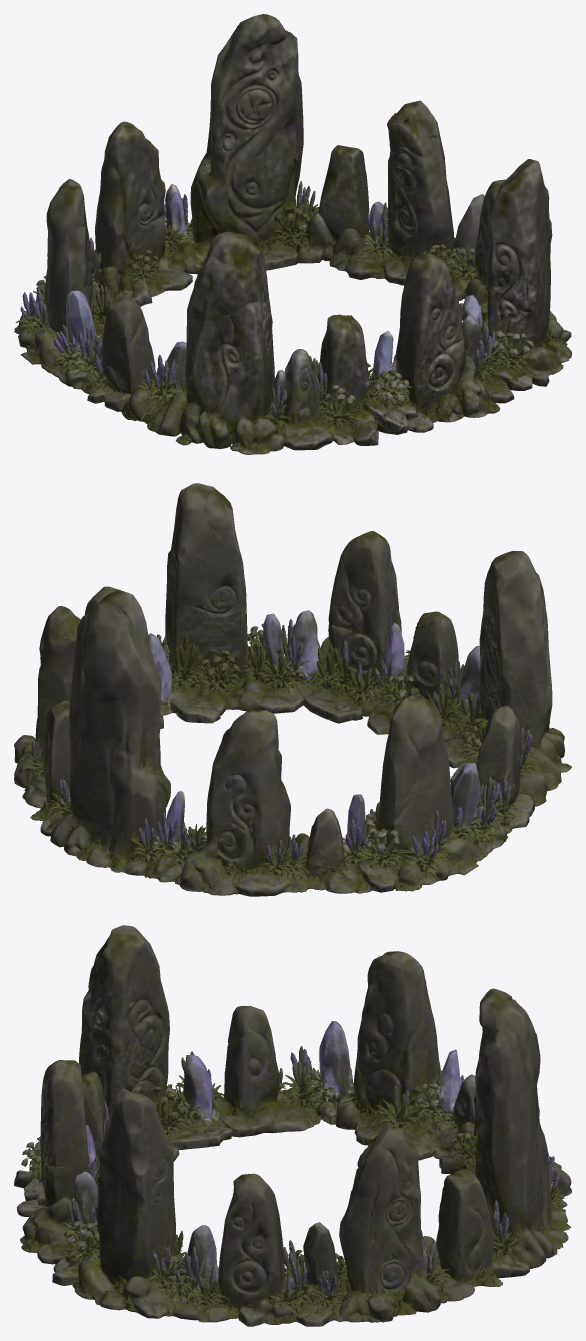
Rendered from Meshy_AI_fantasy_stone_circle_0823035110_image-to-3d-texture.glb.
3 renders of one model, top to bottom at view 1: azimuth 30°, elevation 25°; view 2: azimuth 150°, elevation 25°; view 3: azimuth 270°, elevation 25°, orthographic. The views are drawn at different scales.
Parts seen in each view (by area): view 1: mesh_node; view 2: mesh_node; view 3: mesh_node.
Part boxes in pixels (x1,y1,x2,y2): mesh_node: [14, 14, 571, 454]; mesh_node: [14, 483, 571, 896]; mesh_node: [14, 925, 571, 1326].
Size of the model in its own units: 1.87 by 0.9441 by 1.9.
1 material, 1 textured.
